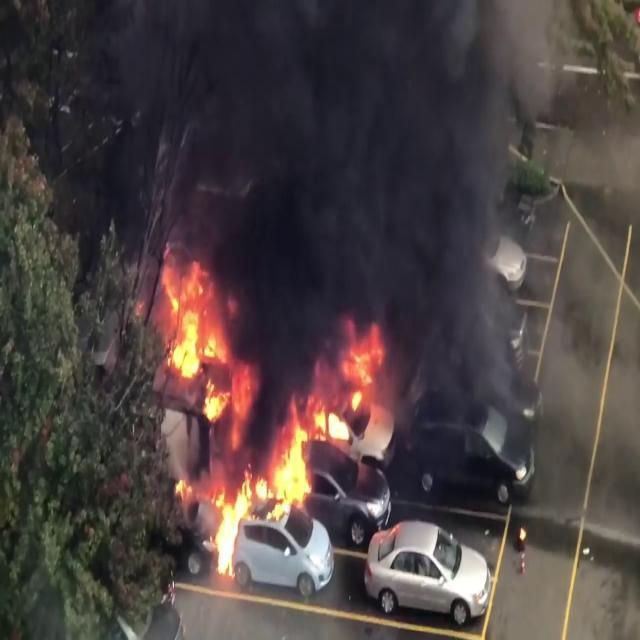Fire: (156, 264, 336, 564), (314, 318, 392, 454)
Smoke: (96, 0, 573, 408)
